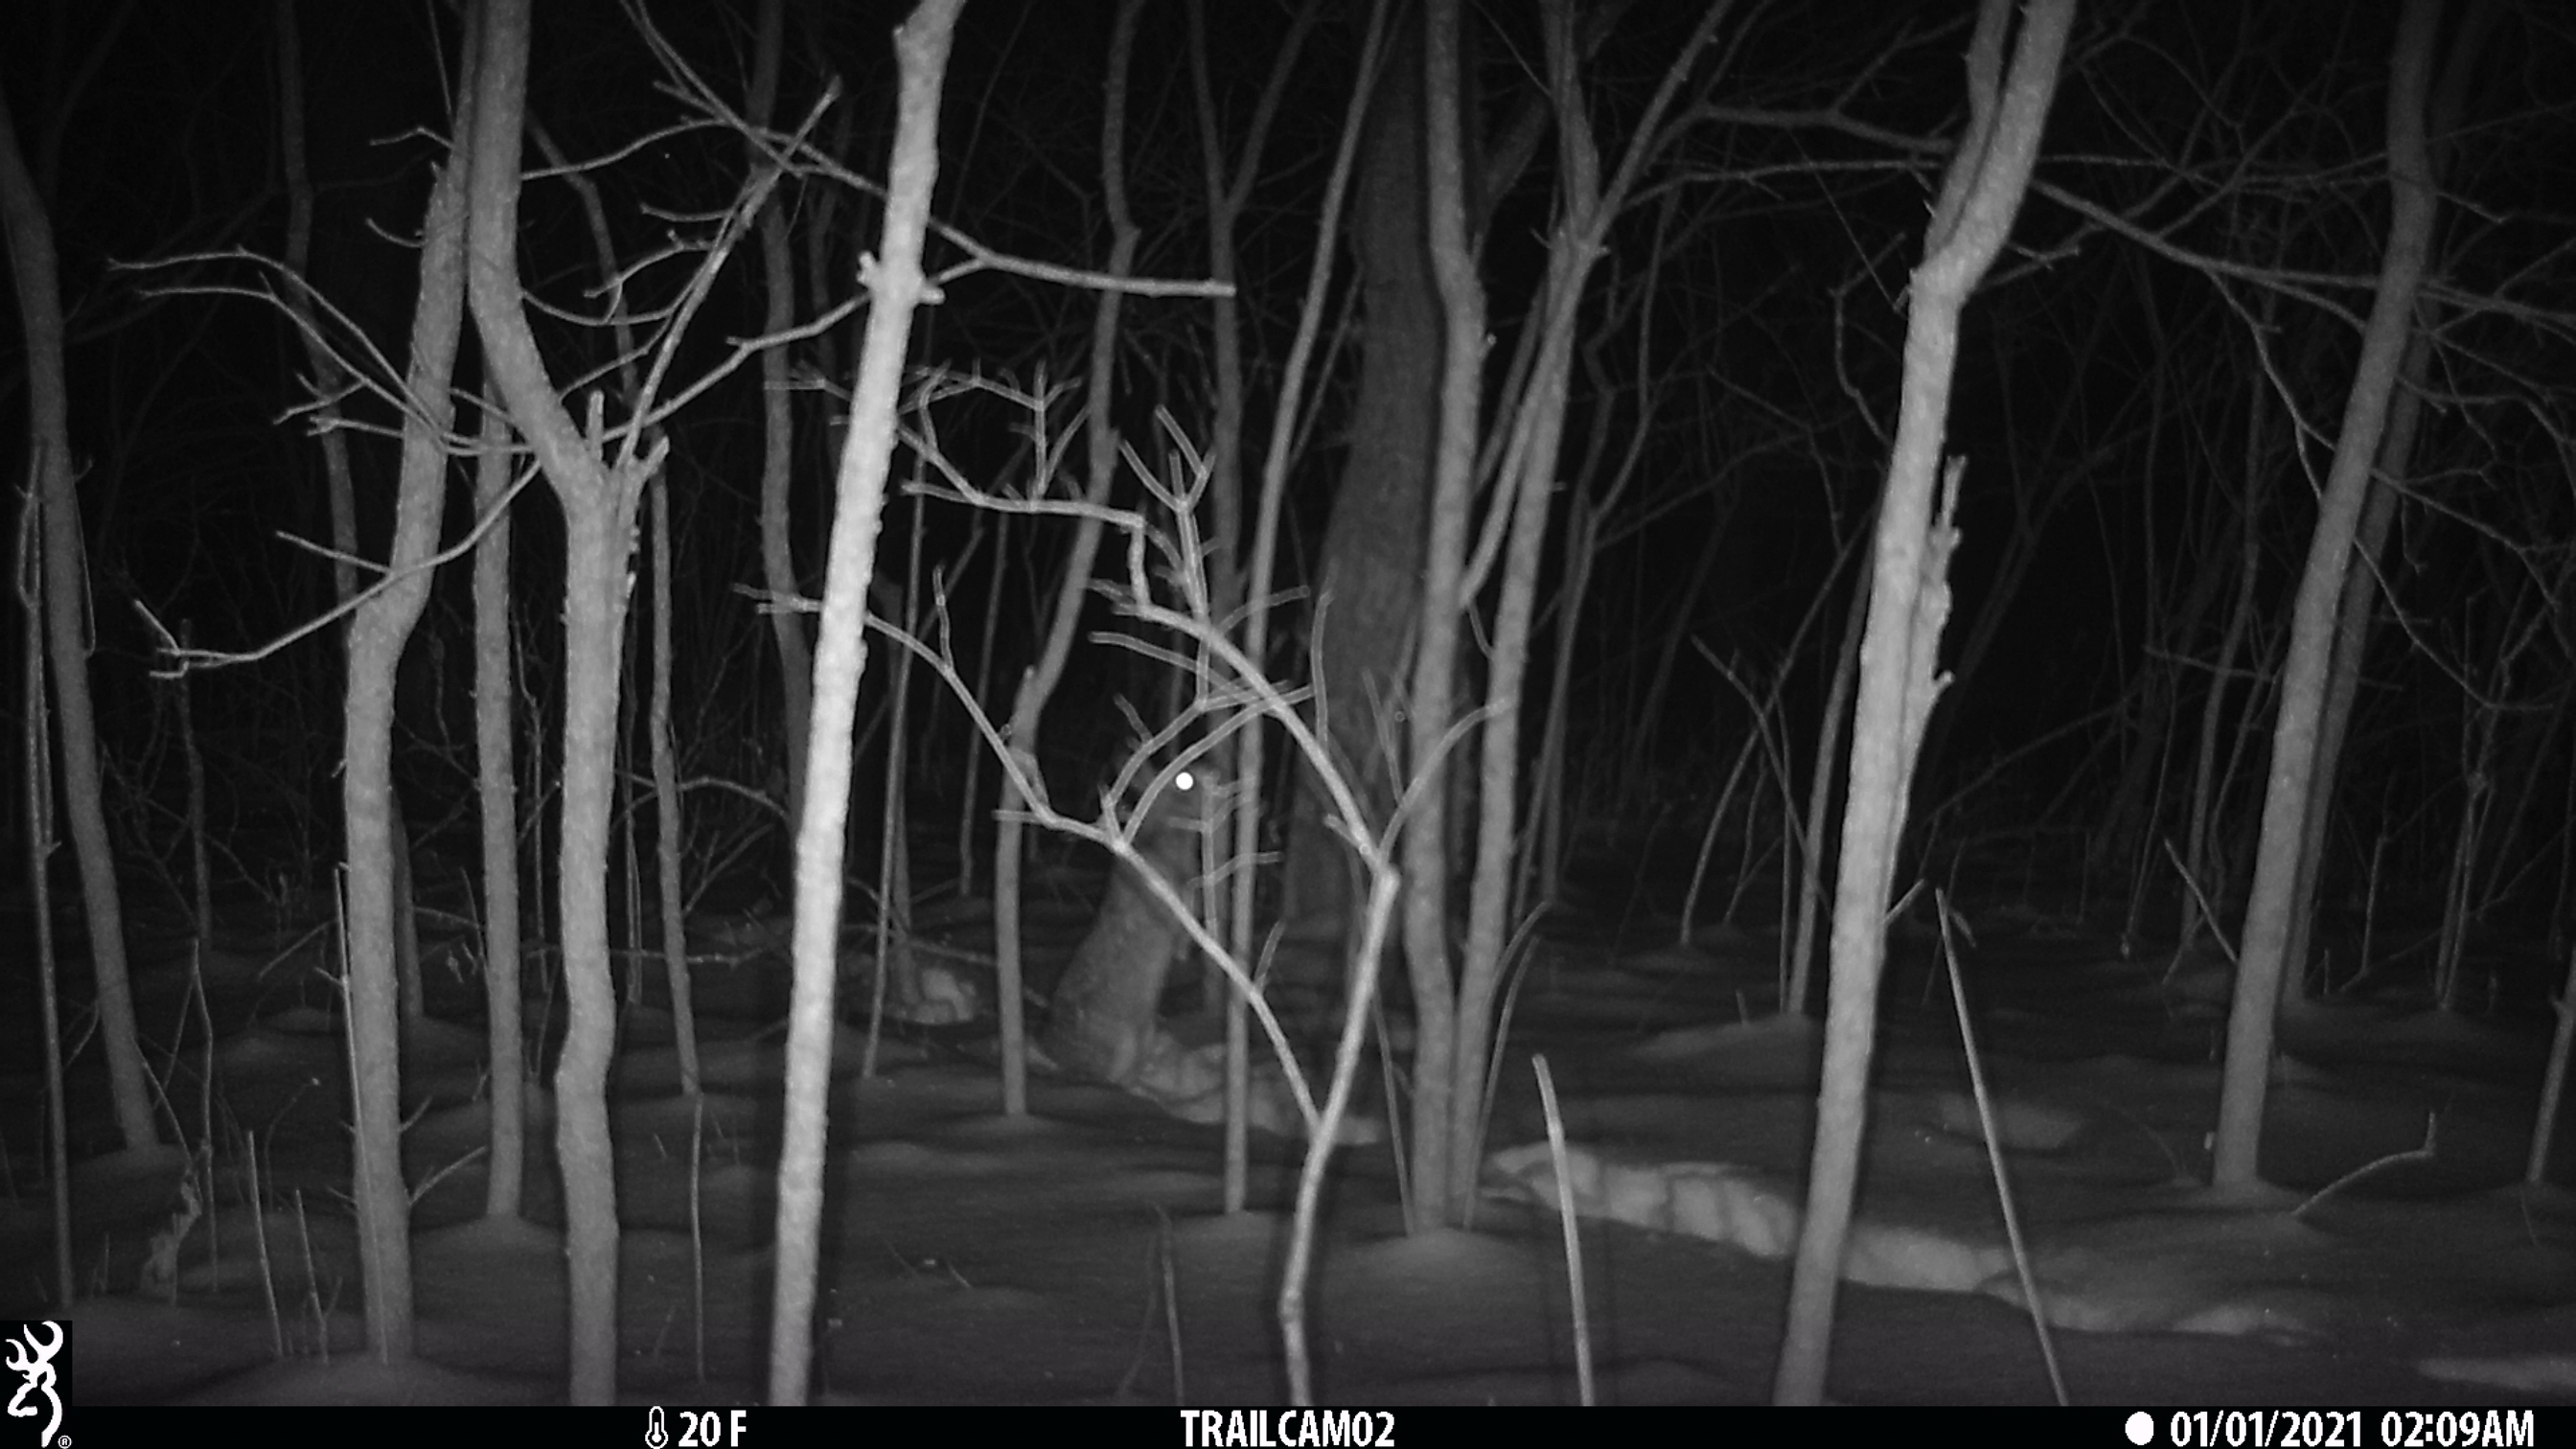Rabbit: (1042, 755, 1235, 1085)
